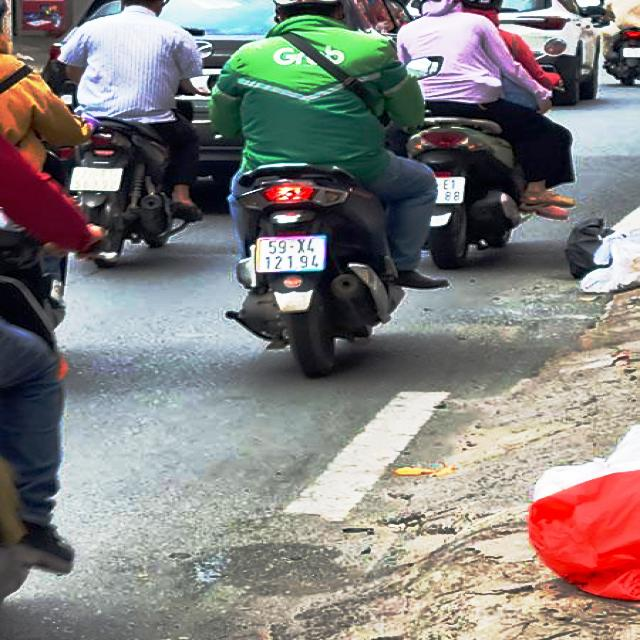license_plate: (255, 237, 330, 276), (65, 163, 126, 194)
